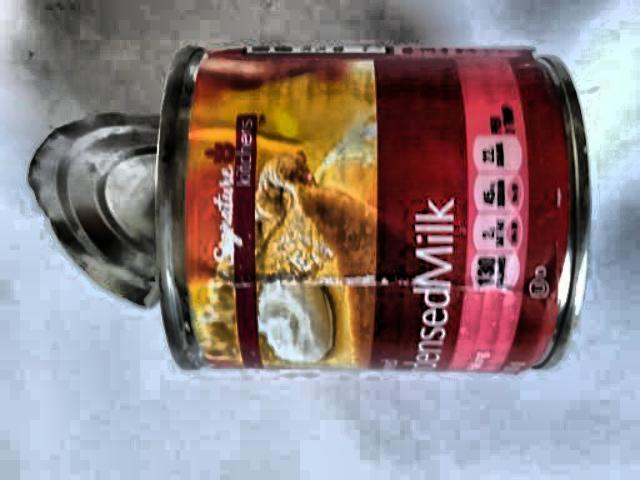Almennt: (13, 20, 587, 402)
